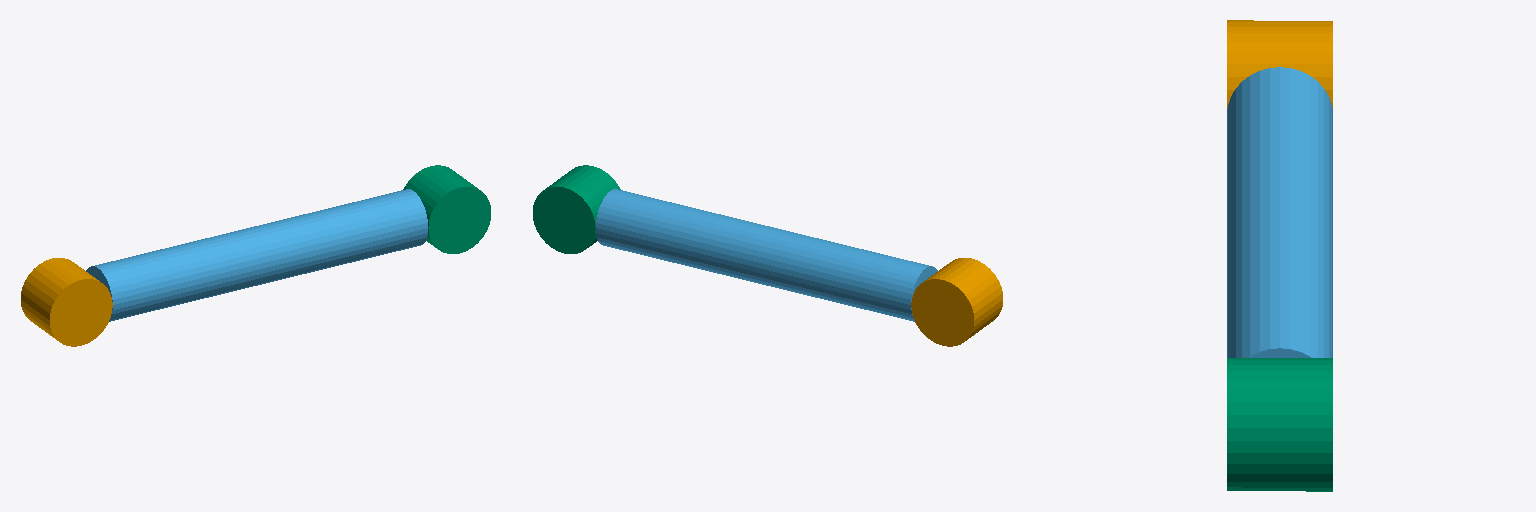
URDF robot description (magneto/magneto1):
<?xml version="1.0"?>
<robot name="magneto/magneto1">
 <link name="foot">
  <inertial>
    <mass value="1"/>
    <inertia ixx="0.00115833333333" ixy="0" ixz="0" iyy="0.00115833333333" iyz="0" izz="0.000625"/>
  </inertial>
  <visual>
    <origin rpy="1.57 0 0" xyz="0 0 0"/>
    <geometry>
      <cylinder length="0.08" radius="0.05"/>
    </geometry>
  </visual>
  <collision>
    <origin rpy="1.57 0 0" xyz="0 0 0"/>
    <geometry>
      <cylinder length="0.08" radius="0.05"/>
    </geometry>
  </collision>
 </link>

 <link name="leg">
  <inertial>
    <mass value="1"/>
    <inertia ixx="0.0212333333333" ixy="0" ixz="0" iyy="0.0212333333333" iyz="0" izz="0.0004"/>
  </inertial>
  <visual>
    <origin rpy="0 1.57 0" xyz="0.3 0 0"/>
    <geometry>
      <cylinder length="0.5" radius="0.04"/>
    </geometry>
  </visual>
  <collision>
    <origin rpy="0 1.57 0" xyz="0.3 0 0"/>
    <geometry>
      <cylinder length="0.5" radius="0.04"/>
    </geometry>
  </collision>
 </link>

 <link name="foot2">
  <inertial>
    <mass value="1"/>
    <inertia ixx="0.00115833333333" ixy="0" ixz="0" iyy="0.00115833333333" iyz="0" izz="0.000625"/>
  </inertial>
  <visual>
    <origin rpy="1.57 0 0" xyz="0 0 0"/>
    <geometry>
      <cylinder length="0.08" radius="0.05"/>
    </geometry>
  </visual>
  <collision>
    <origin rpy="1.57 0 0" xyz="0 0 0"/>
    <geometry>
      <cylinder length="0.08" radius="0.05"/>
    </geometry>
  </collision>
 </link>

<joint name="joint_foot_leg_Z" type="revolute">
  <origin rpy="0 0 0" xyz="0 0 0"/>
  <parent link="foot"/>
  <child link="leg"/>
  <axis xyz="0 1 0"/>
  <dynamics damping="0.01" friction="0.5"/>
  <limit lower="-1.57" upper="1.57" effort="0.01" velocity="100"/>
</joint>

<joint name="joint_leg_foot2_Z" type="revolute">
  <origin rpy="0 0 0" xyz="0.6 0 0"/>
  <parent link="leg"/>
  <child link="foot2"/>
  <axis xyz="0 1 0"/>
  <dynamics damping="0.01" friction="0.5"/>
  <limit lower="-1.57" upper="1.57" effort="0.01" velocity="100"/>
</joint>

  <klampt package_root="../../.." default_acc_max="4" >
  </klampt>
</robot>

--- What the picture shows (computed from the rendered views, not written in the file) ---
The picture shows the robot from 3 angles, left to right: view 1: azimuth 30°, elevation 25°; view 2: azimuth 150°, elevation 25°; view 3: azimuth 270°, elevation 25°; orthographic projection.
Model magneto/magneto1 with 3 links and 2 joints (2 revolute), rooted at foot, posed every joint at zero.
Visible links, largest first — view 1: leg, foot, foot2; view 2: leg, foot, foot2; view 3: leg, foot2, foot.
Boxes of the visible links, bbox=[...] form: leg: bbox=[86, 189, 427, 321]; foot: bbox=[21, 258, 112, 346]; foot2: bbox=[403, 165, 490, 253]; leg: bbox=[596, 189, 937, 321]; foot: bbox=[911, 258, 1002, 346]; foot2: bbox=[533, 165, 620, 253]; leg: bbox=[1227, 67, 1332, 357]; foot2: bbox=[1227, 358, 1332, 491]; foot: bbox=[1227, 20, 1332, 107].
Size in the robot's own frame: 0.7 by 0.0801 by 0.1001 metres.
Geometry: primitives only (box / cylinder / sphere), no mesh files.